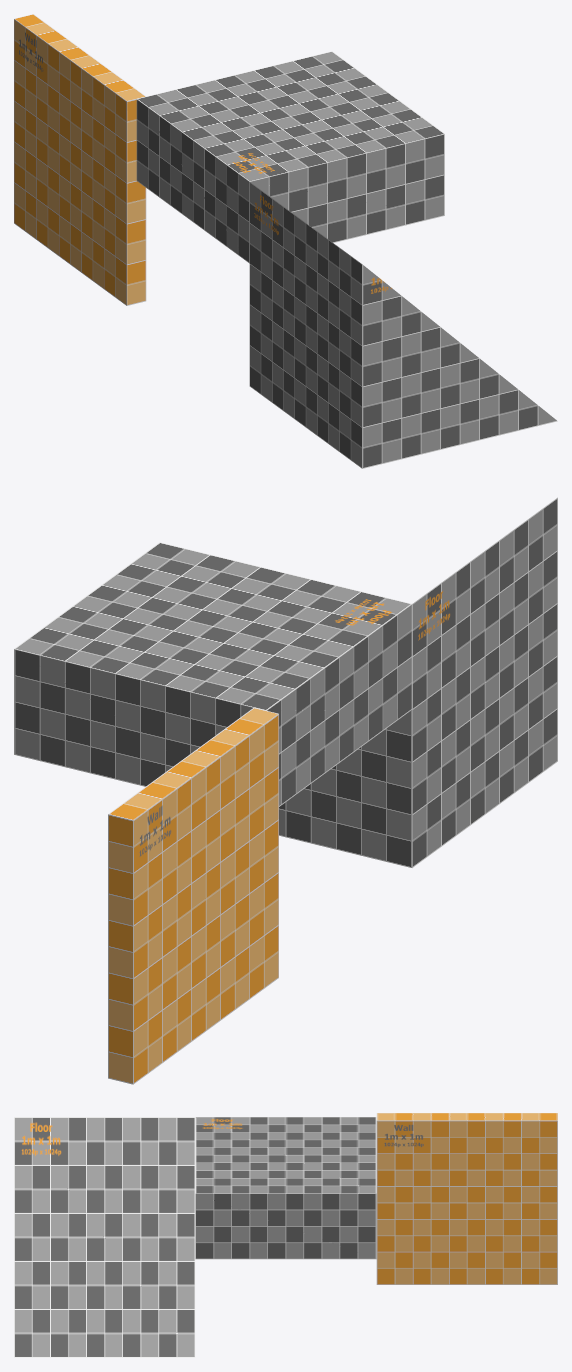
Rendered from PrototypingFloor+Wall.glb.
3 renders of one model, top to bottom at view 1: azimuth 30°, elevation 25°; view 2: azimuth 150°, elevation 25°; view 3: azimuth 270°, elevation 25°, orthographic. The views are drawn at different scales.
Parts seen in each view (by area): view 1: FloorPrototypeCube, RampPrototype, WallPrototypeCube; view 2: FloorPrototypeCube, RampPrototype, WallPrototypeCube; view 3: RampPrototype, WallPrototypeCube, FloorPrototypeCube.
Boxes of the visible parts, x1,y1,x2,y2 form: FloorPrototypeCube: [136, 51, 444, 263]; RampPrototype: [249, 182, 557, 468]; WallPrototypeCube: [14, 14, 146, 305]; FloorPrototypeCube: [14, 542, 412, 806]; RampPrototype: [279, 497, 557, 867]; WallPrototypeCube: [108, 707, 278, 1084]; RampPrototype: [14, 1117, 195, 1357]; WallPrototypeCube: [376, 1113, 557, 1284]; FloorPrototypeCube: [195, 1117, 376, 1259].
Size of the model in its own units: 1.05 by 1 by 3.
Materials: 2 (2 with a texture image).
